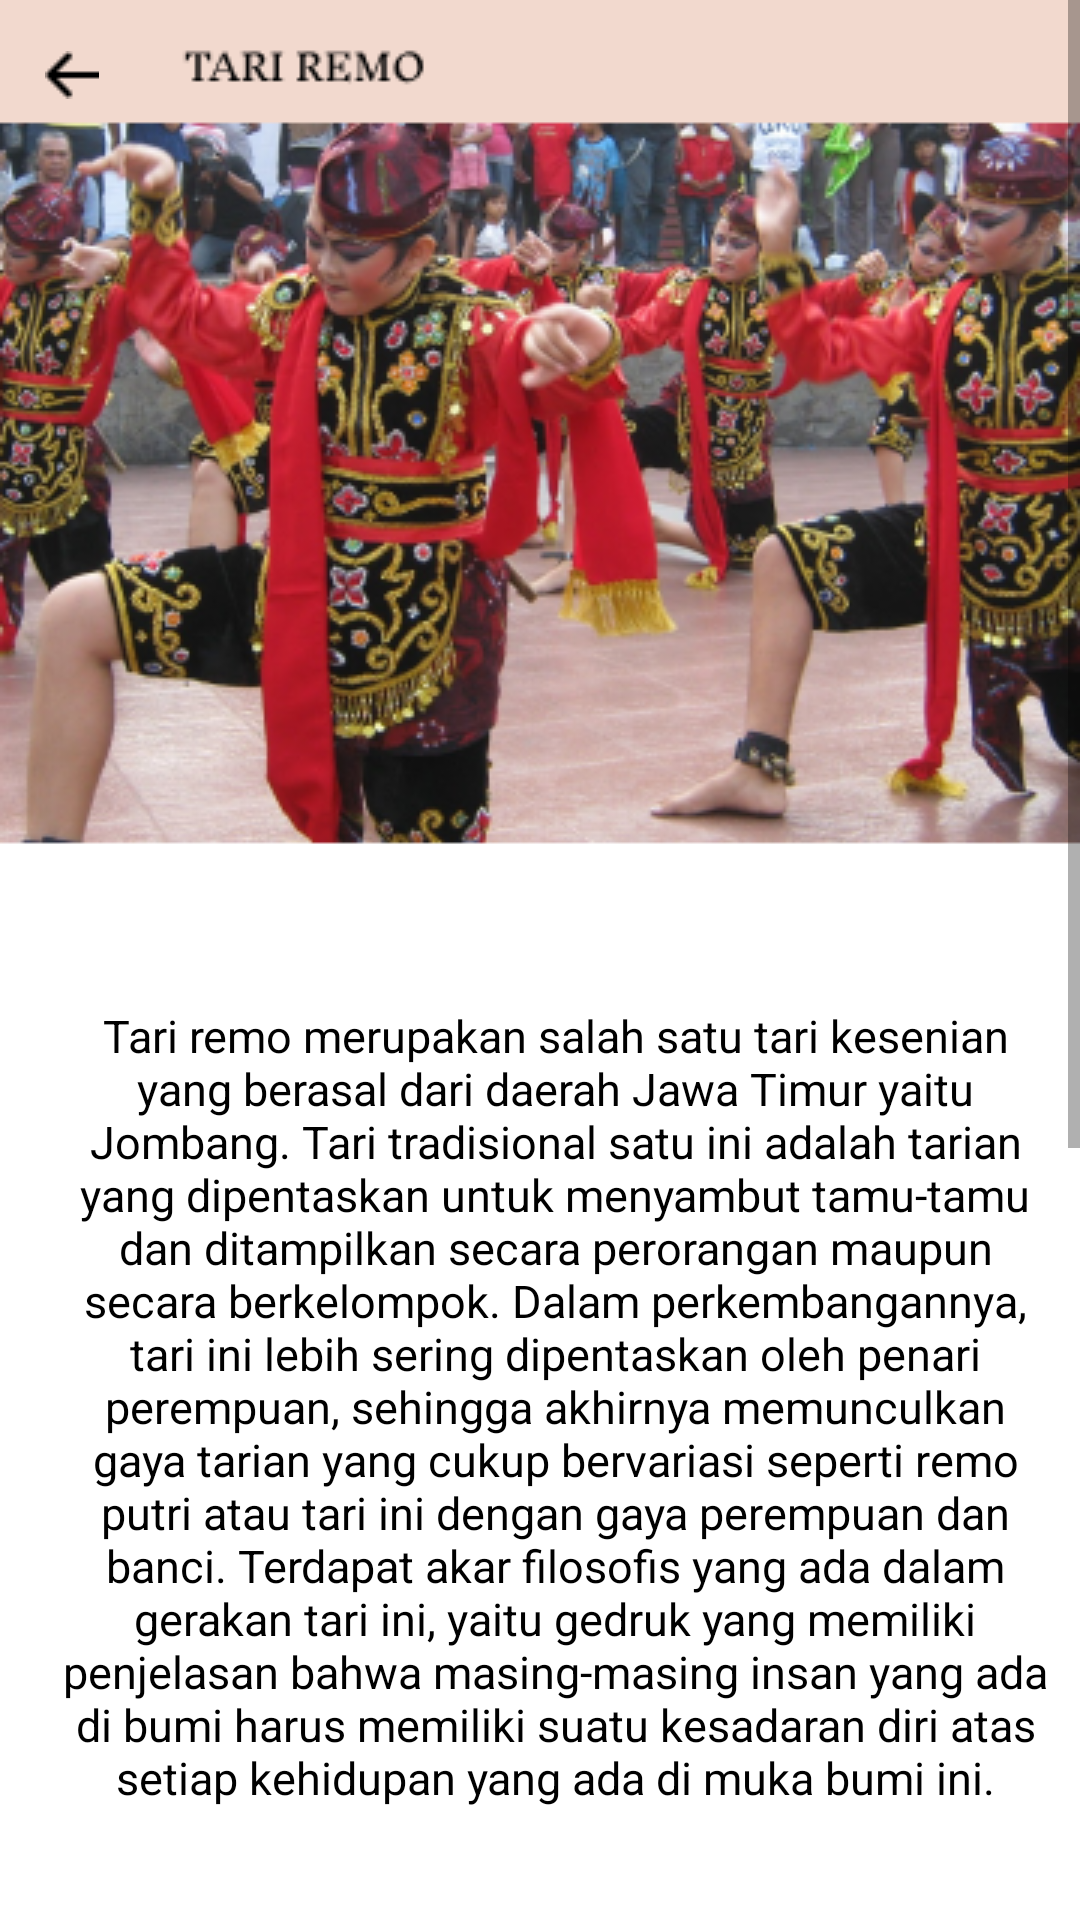

Named icons in this screenshot (1080 × 1920) and their centers, (x=x, y=y):
back: (x=72, y=75)
